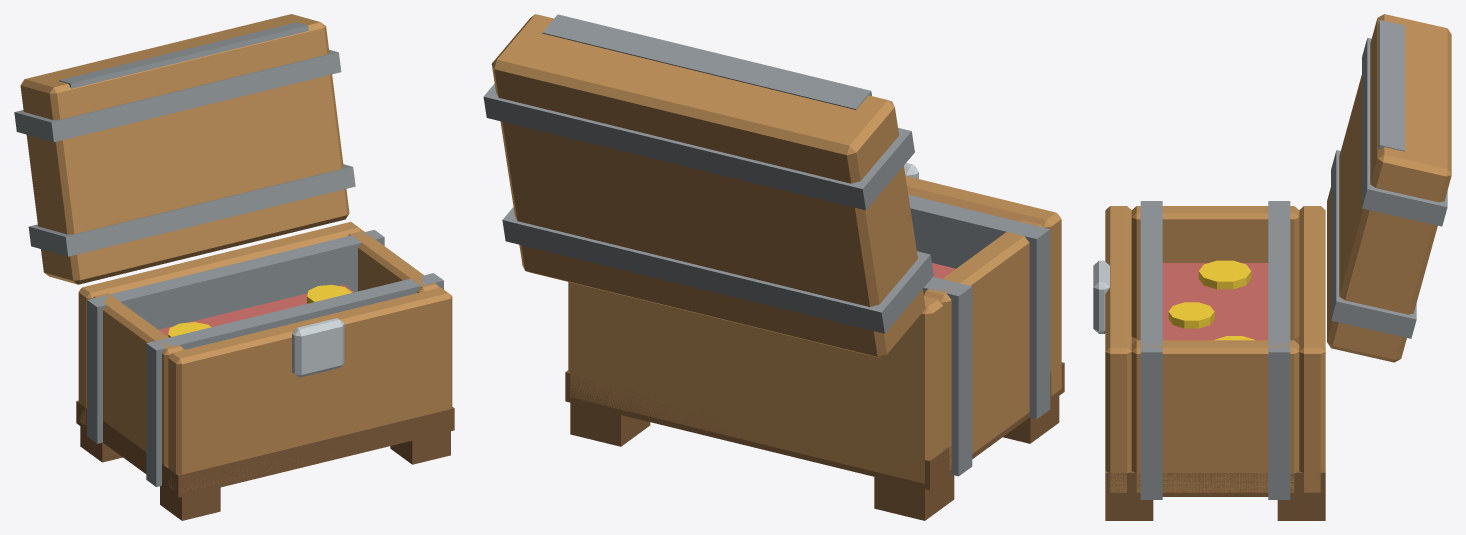
The model's file is loot_chest_small_open.glb.
The picture shows the model from 3 angles, left to right: view 1: azimuth 30°, elevation 25°; view 2: azimuth 150°, elevation 25°; view 3: azimuth 270°, elevation 25°; orthographic projection. The views are drawn at different scales.
Visible parts, largest first — view 1: Small_Lid.001, Small_Body_Front.001, Small_Band_2.001, Small_Body_Floor.001, Small_Lid_Band_2.001, Small_Lid_Band_1.001, Small_Body_Left.001, Small_Band_1.001, Small_Body_Back.001, Small_Lid_Lip.001, Small_Lock.001, Small_Body_Right.001 (+5 smaller); view 2: Small_Lid.001, Small_Body_Back.001, Small_Body_Left.001, Small_Lid_Band_2.001, Small_Lid_Band_1.001, Small_Band_1.001, Small_Lid_Lip.001, Small_Body_Front.001, Small_Body_Floor.001, Small_Band_2.001, Small_Foot_3.001, Small_Foot_4.001 (+1 smaller); view 3: Small_Lid.001, Small_Body_Right.001, Small_Body_Left.001, Small_Body_Back.001, Small_Body_Front.001, Small_Band_1.001, Small_Band_2.001, Small_Cloth, Small_Lid_Lip.001, Small_Body_Floor.001, Small_Lid_Band_1.001, Small_Lid_Band_2.001 (+5 smaller).
Boxes of the visible parts, <box> form: Small_Lid.001: <box>20,14,349,284</box>; Small_Body_Front.001: <box>168,287,452,491</box>; Small_Band_2.001: <box>87,230,384,443</box>; Small_Body_Floor.001: <box>76,400,454,497</box>; Small_Lid_Band_2.001: <box>28,164,355,256</box>; Small_Lid_Band_1.001: <box>14,49,341,141</box>; Small_Body_Left.001: <box>92,293,184,465</box>; Small_Band_1.001: <box>146,273,443,486</box>; Small_Body_Back.001: <box>78,222,362,425</box>; Small_Lid_Lip.001: <box>59,22,308,88</box>; Small_Lock.001: <box>292,318,344,377</box>; Small_Body_Right.001: <box>348,230,440,292</box>; Small_Lid.001: <box>491,14,925,358</box>; Small_Body_Back.001: <box>568,282,942,483</box>; Small_Body_Left.001: <box>923,220,1042,470</box>; Small_Lid_Band_2.001: <box>502,207,933,333</box>; Small_Lid_Band_1.001: <box>483,84,914,210</box>; Small_Band_1.001: <box>908,194,1050,419</box>; Small_Lid_Lip.001: <box>542,14,871,109</box>; Small_Body_Front.001: <box>905,176,1061,395</box>; Small_Body_Floor.001: <box>565,362,1064,490</box>; Small_Band_2.001: <box>922,277,972,476</box>; Small_Foot_3.001: <box>874,474,954,520</box>; Small_Foot_4.001: <box>570,402,650,446</box>; Small_Lid.001: <box>1327,14,1451,362</box>; Small_Body_Right.001: <box>1131,340,1299,492</box>; Small_Body_Left.001: <box>1131,206,1299,338</box>; Small_Body_Back.001: <box>1299,206,1325,492</box>; Small_Body_Front.001: <box>1105,206,1131,492</box>; Small_Band_1.001: <box>1140,201,1162,499</box>; Small_Band_2.001: <box>1268,201,1290,499</box>; Small_Cloth: <box>1162,263,1268,340</box>; Small_Lid_Lip.001: <box>1378,20,1404,151</box>; Small_Body_Floor.001: <box>1105,337,1325,496</box>; Small_Lid_Band_1.001: <box>1362,37,1447,226</box>; Small_Lid_Band_2.001: <box>1331,150,1416,338</box>.
Size of the model in its own units: 0.7488 by 0.8479 by 0.7491.
